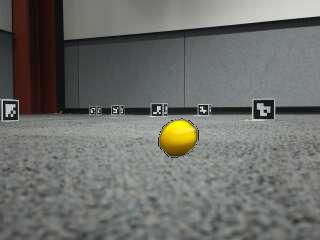lemon: (161, 120, 198, 156)
